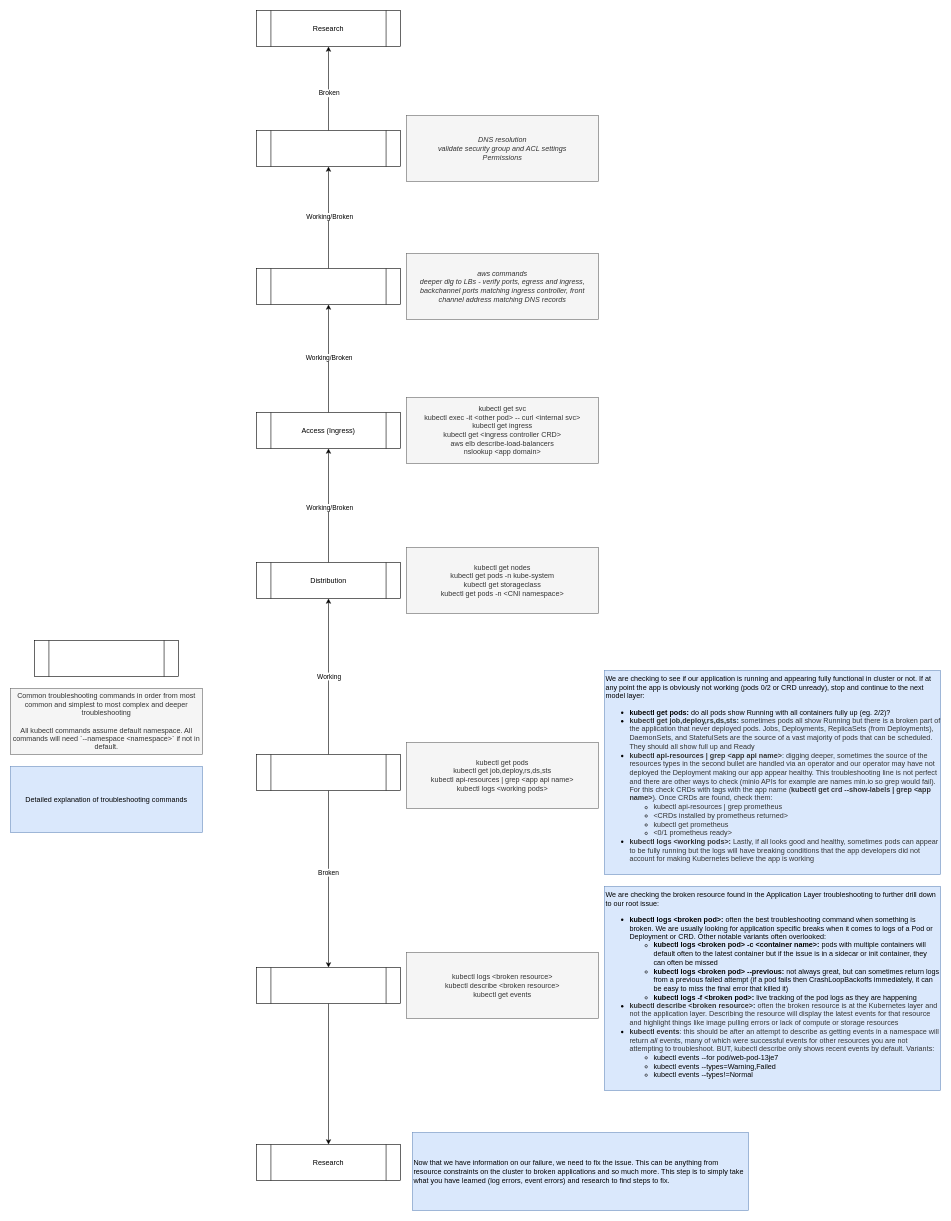
Image size: 951x1221. Some labels were removed from this diagram. Here are the shapes that lost their labels. From the top down, the centre of each, then its label:
At [328,148]: "Environment".
At [328,286]: "Infrastructure".
At [106,658]: "KSI Model Layer".
At [328,772]: "Application (START HERE)".
At [328,985]: "Resource".
